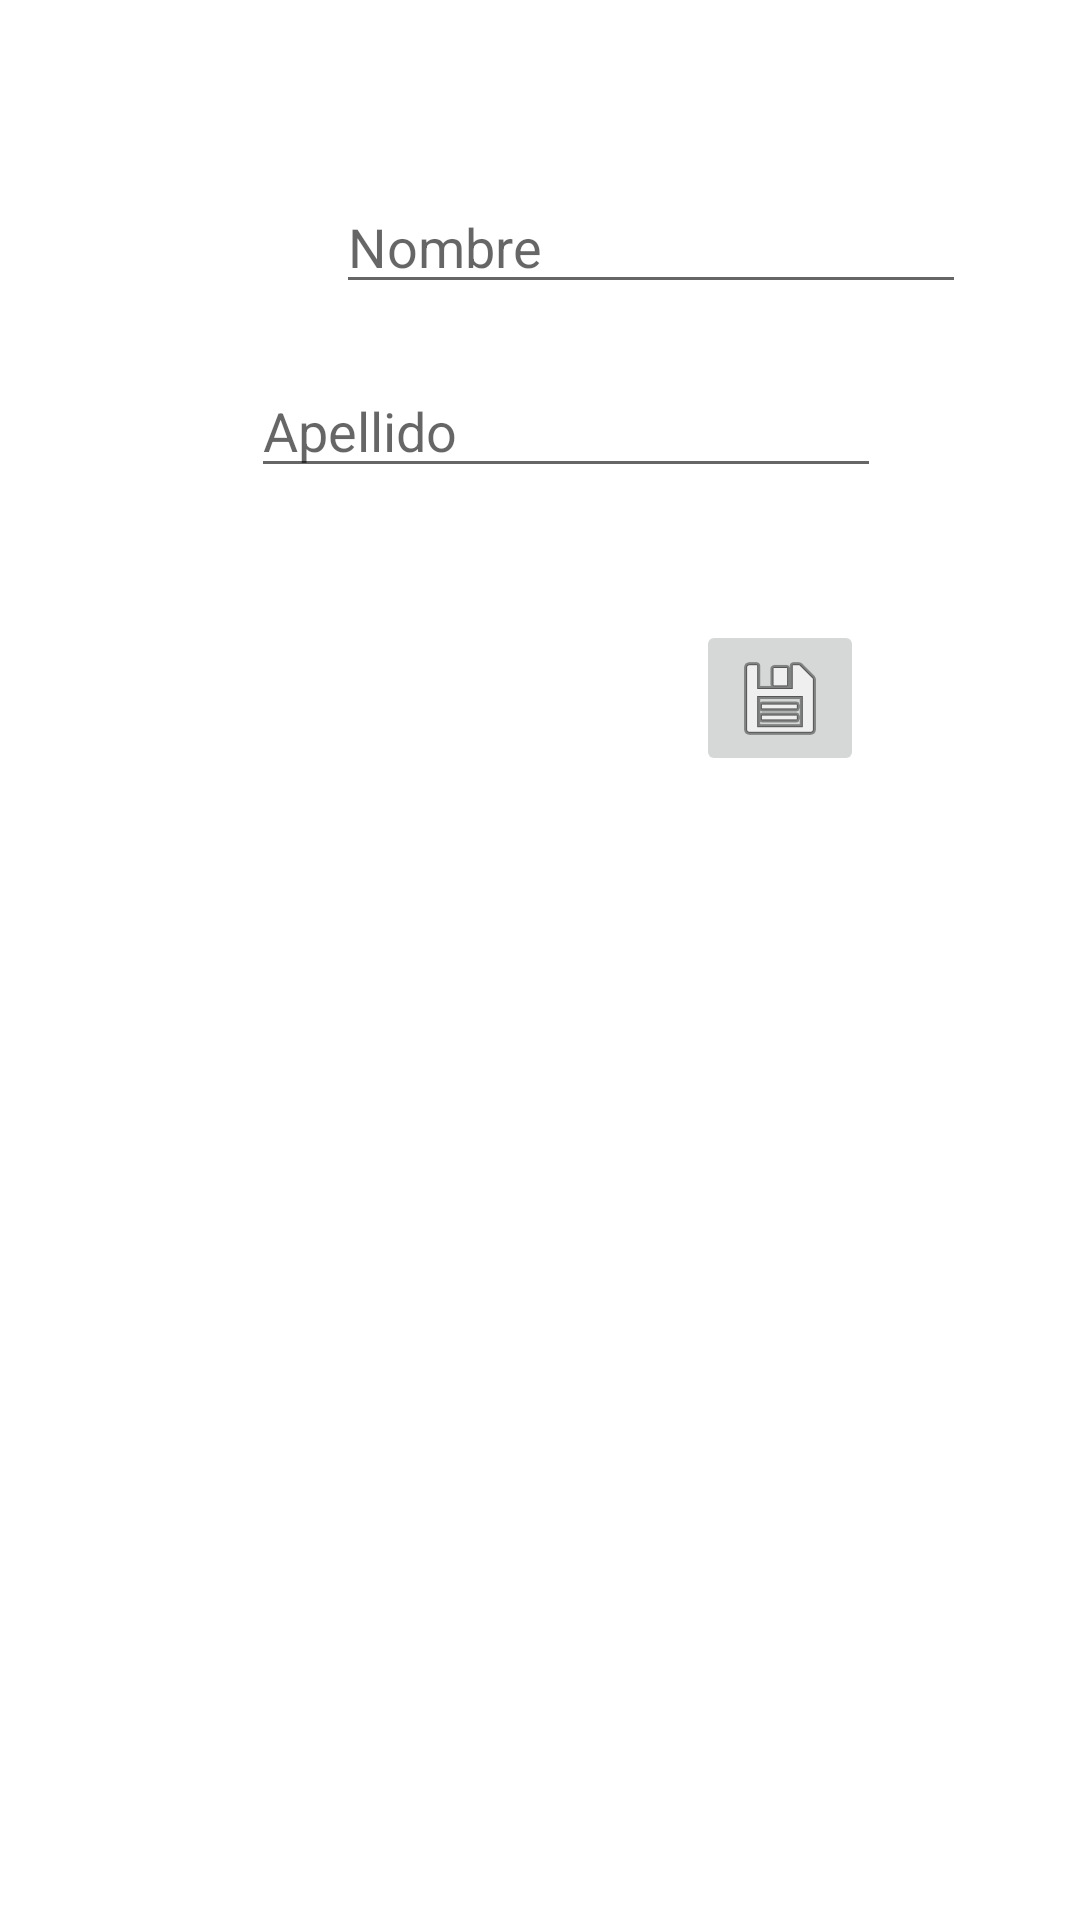

Named icons in this screenshot (1080w x 1920h) and their bounding boxes, (x1=x1, y1=y1, x2=x2, y2=y2):
save: (x1=708, y1=638, x2=852, y2=758)
